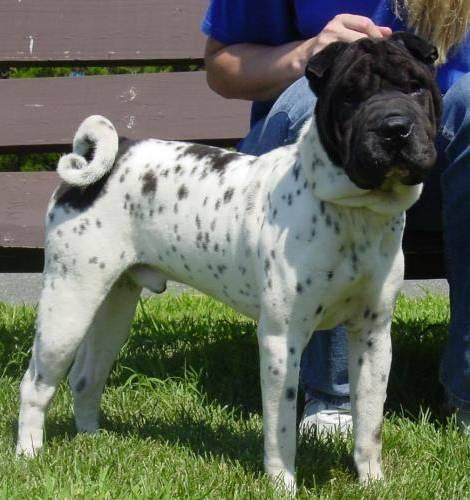dog: (16, 31, 444, 500)
